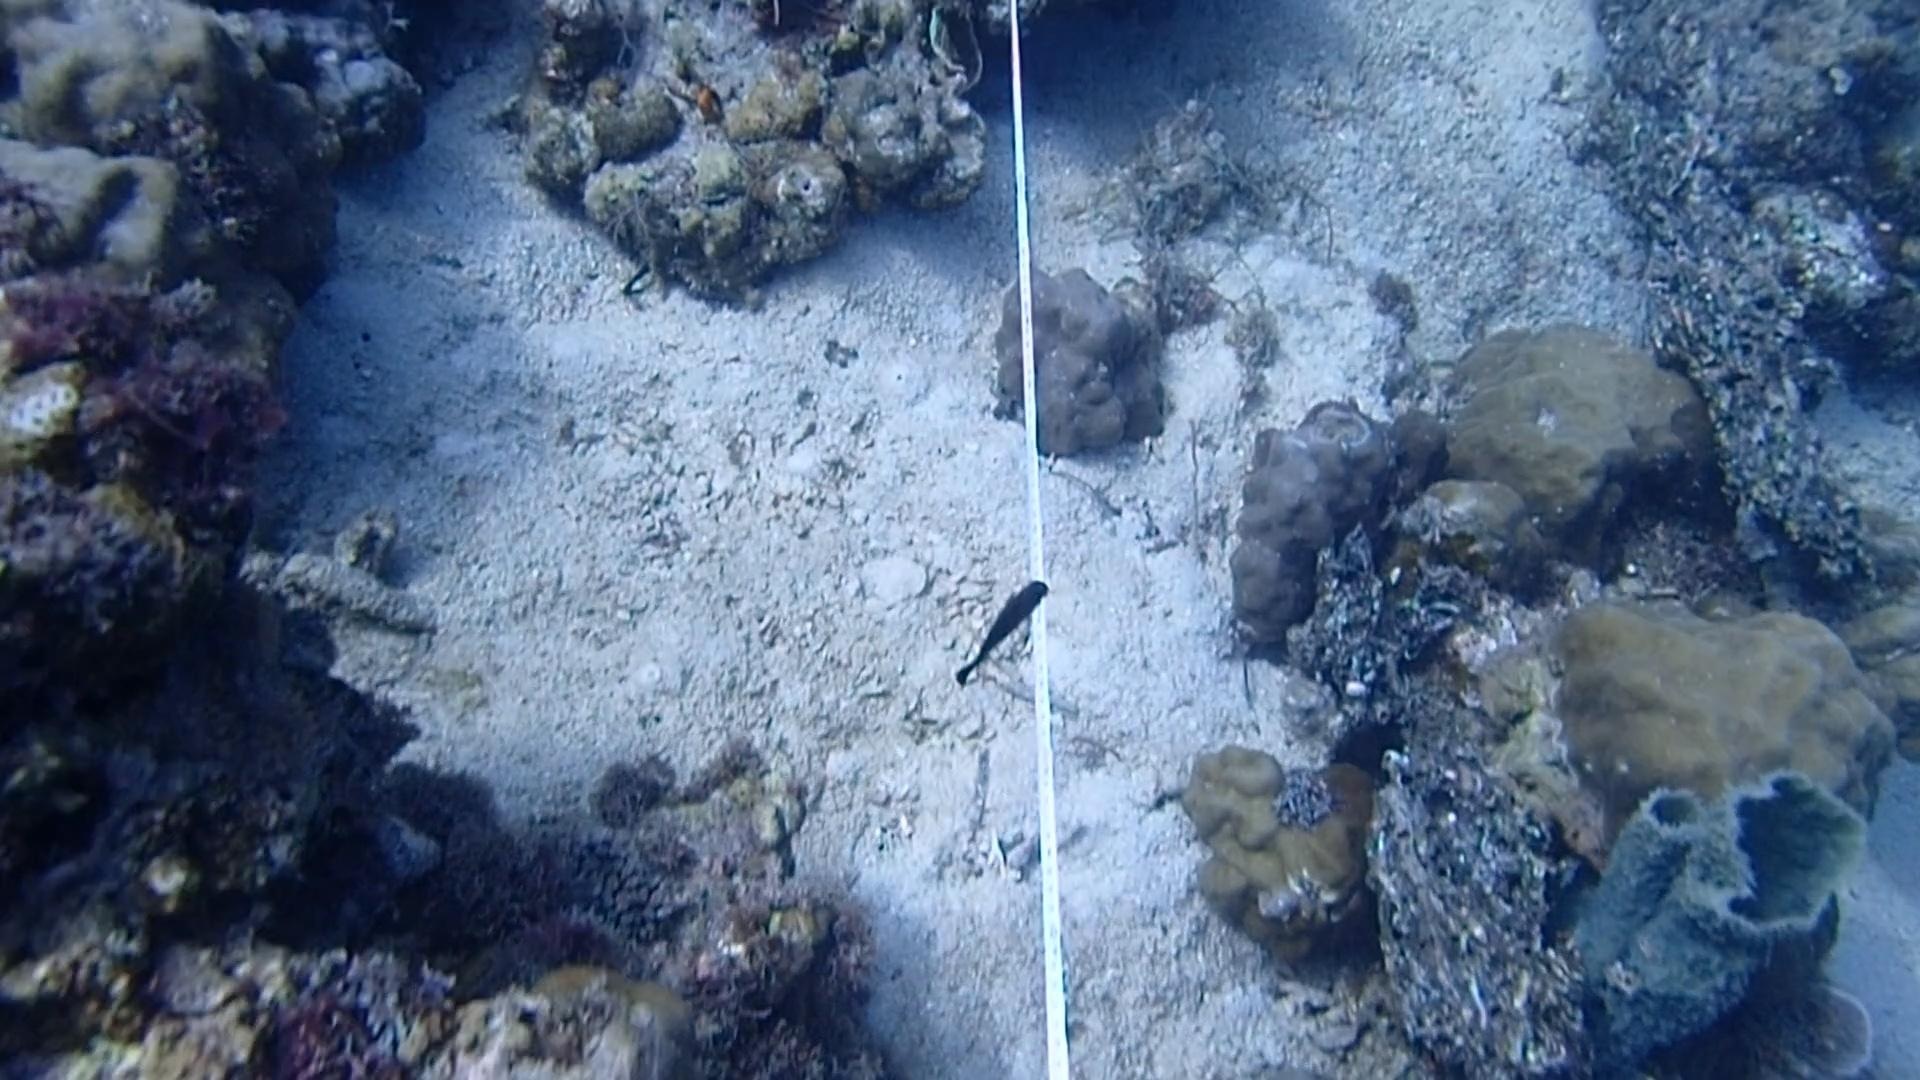Dark Fish: (939, 556, 1067, 699)
